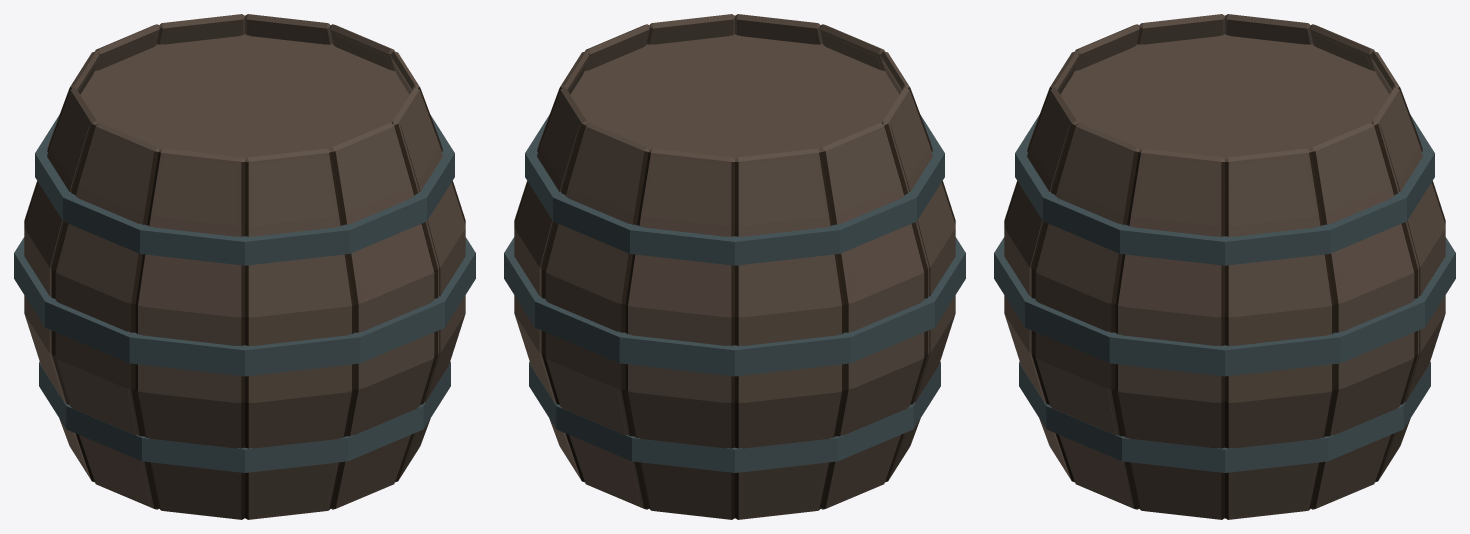
Rendered from Barrell2.fbx.
The picture shows the model from 3 angles, left to right: view 1: azimuth 30°, elevation 25°; view 2: azimuth 150°, elevation 25°; view 3: azimuth 270°, elevation 25°; orthographic projection.
Parts seen in each view (by area): view 1: Barrell2.002; view 2: Barrell2.002; view 3: Barrell2.002.
Part boxes in pixels (x1=…): Barrell2.002: x1=14, y1=14, x2=475, y2=519; Barrell2.002: x1=504, y1=14, x2=965, y2=519; Barrell2.002: x1=994, y1=14, x2=1455, y2=519.
Size of the model in its own units: 1.69 by 1.46 by 1.69.
